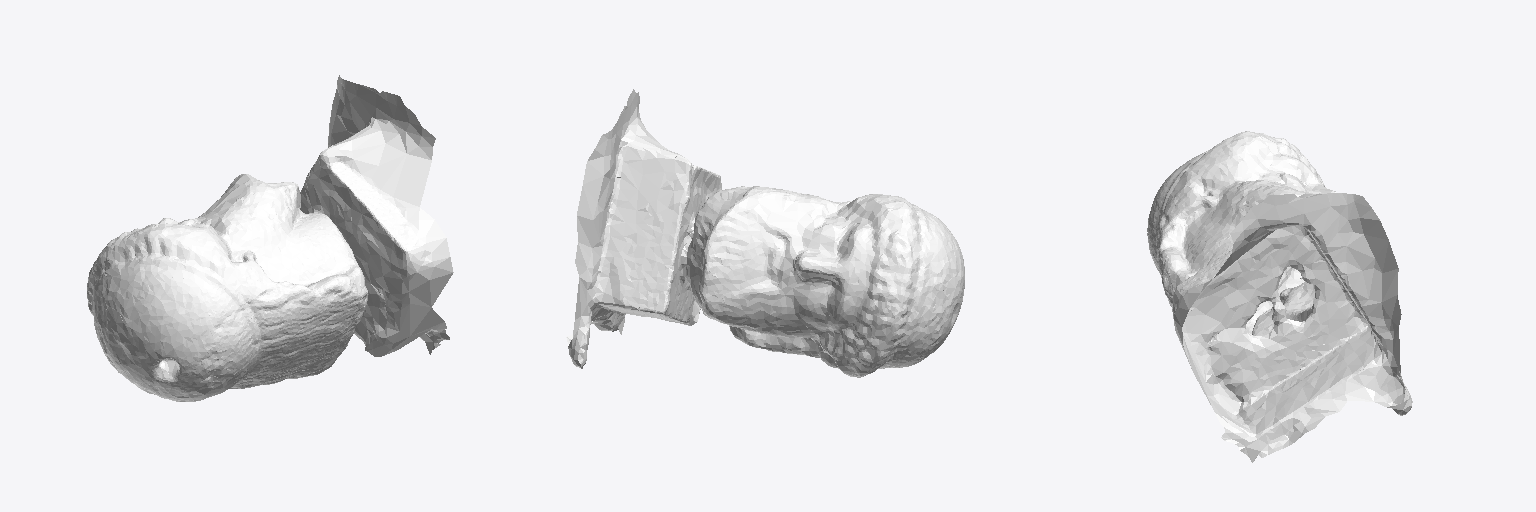
Rendered from busr.obj.
3 views of the same model, side by side, from view 1: azimuth 30°, elevation 25°; view 2: azimuth 150°, elevation 25°; view 3: azimuth 270°, elevation 25° (orthographic).
Size of the model in its own units: 20.75 by 15.52 by 14.43.